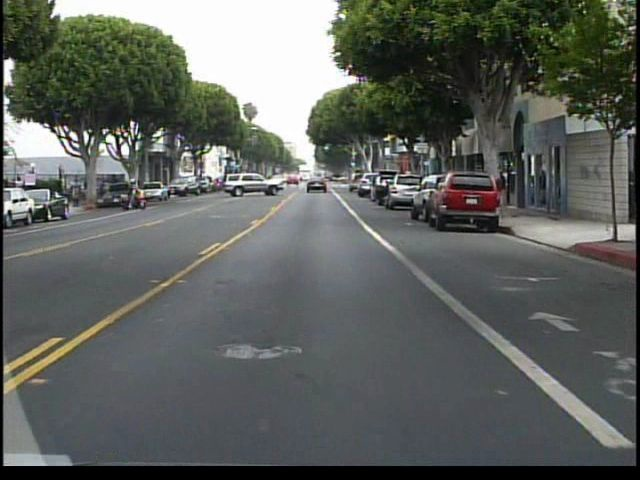person: (129, 178, 148, 210), (107, 171, 124, 205)
